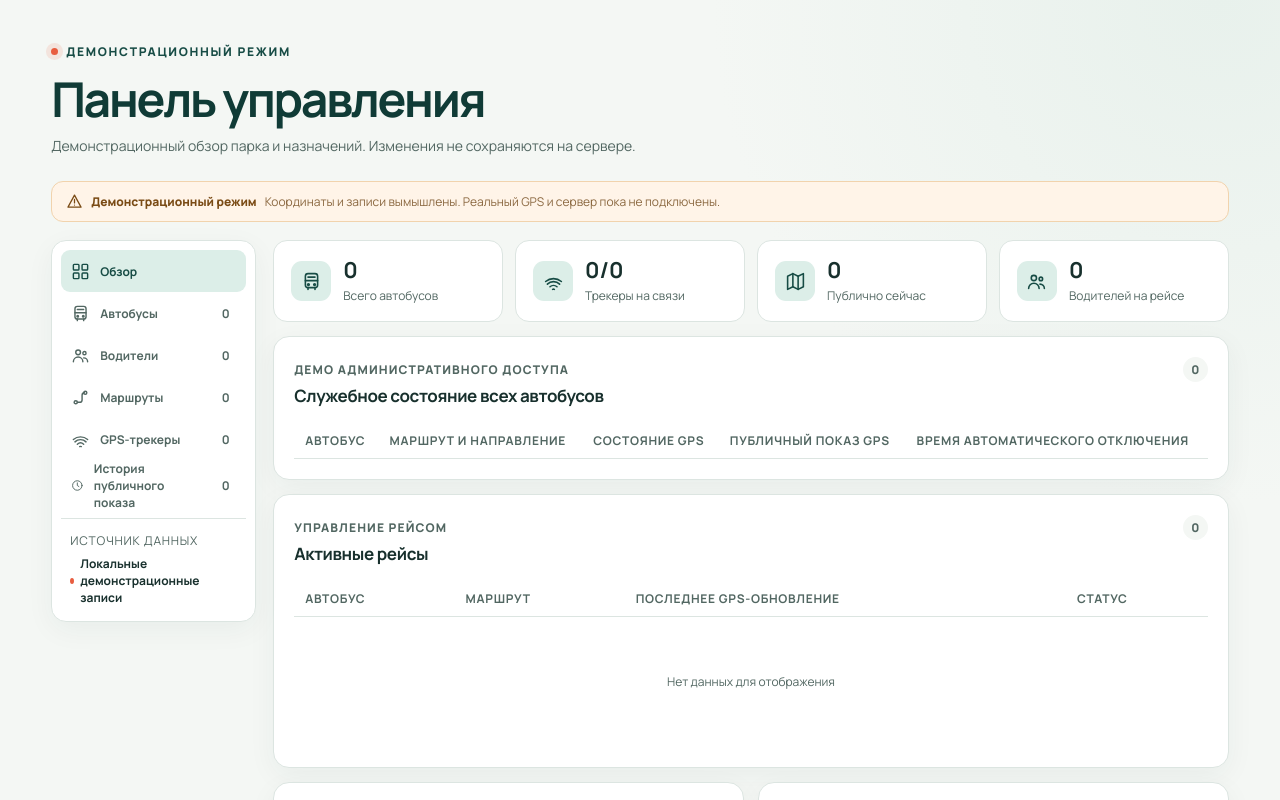
Admin demo panel › renders tracker model and assignment in separate columns
Click the button "GPS-трекеры 0" at (154, 440), box [61, 418, 246, 460]
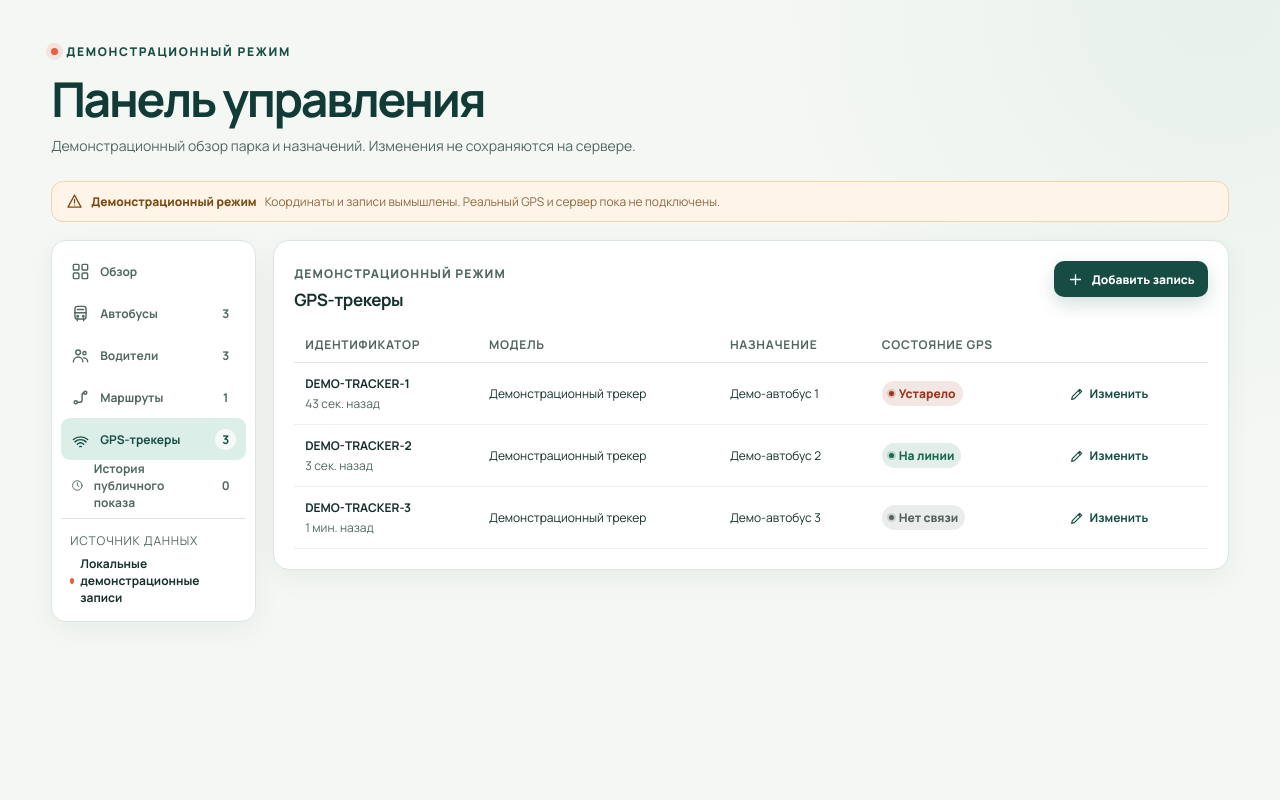
Check: the column heading "Модель" is shown, box [478, 328, 719, 363]
Check: the column heading "Назначение" is shown, box [719, 328, 871, 363]
Check: the text "DEMO-TRACKER-3" is shown, box [305, 500, 411, 516]
